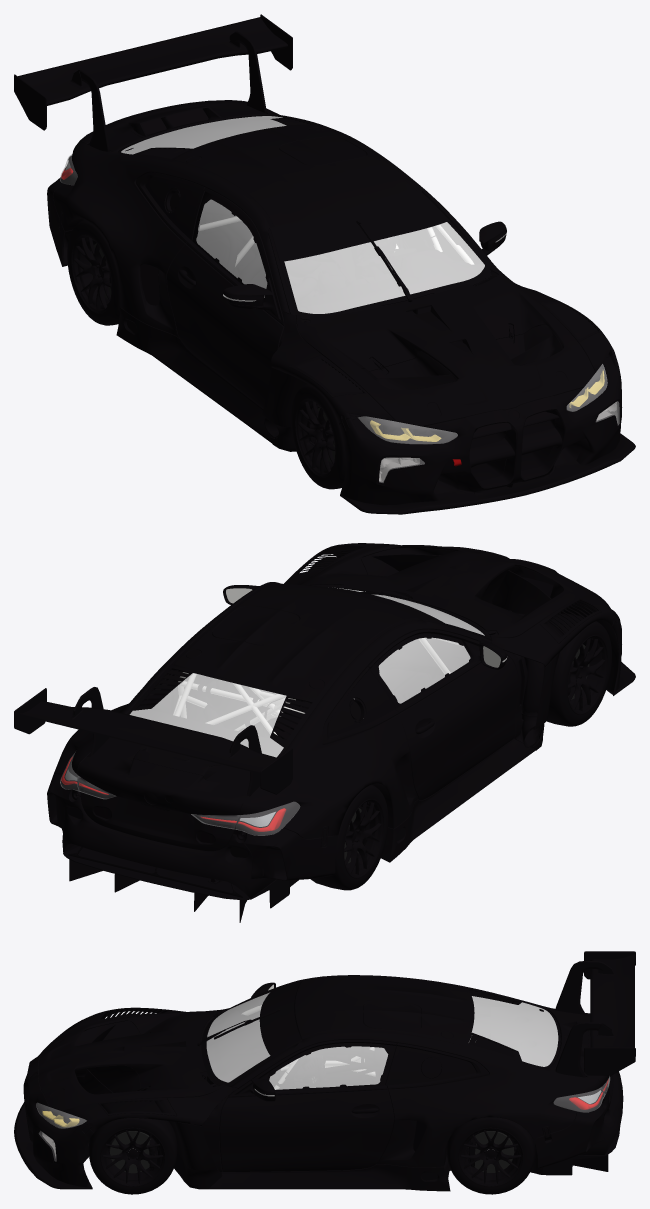
The model's file is bmw_m4_gt3.glb.
The picture shows the model from 3 angles, top to bottom: view 1: azimuth 30°, elevation 25°; view 2: azimuth 150°, elevation 25°; view 3: azimuth 270°, elevation 25°; orthographic projection. The views are drawn at different scales.
Visible parts, largest first — view 1: Object_2, Object_5, Object_8; view 2: Object_2, Object_5, Object_8; view 3: Object_2, Object_5, Object_8.
Part boxes in pixels (x1,y1,x2,y2): Object_2: (14,14,635,514); Object_5: (60,116,619,482); Object_8: (71,217,604,477); Object_2: (14,543,635,922); Object_5: (60,588,506,835); Object_8: (173,585,608,878); Object_2: (14,951,635,1194); Object_5: (36,992,610,1161); Object_8: (42,982,523,1186).
Bounding box in the file's own units: 2.09 × 1.41 × 5.02.
Materials: 4 (4 with a texture image).
